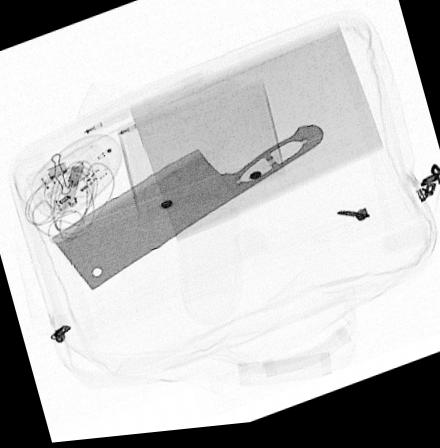Knife: (49, 128, 326, 294)
